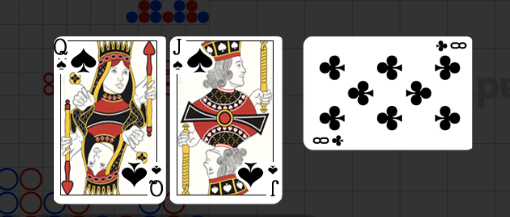8C: (312, 133, 346, 147), (433, 40, 467, 53)
9S: (54, 36, 68, 73)
JS: (171, 38, 215, 85), (238, 159, 282, 205)
